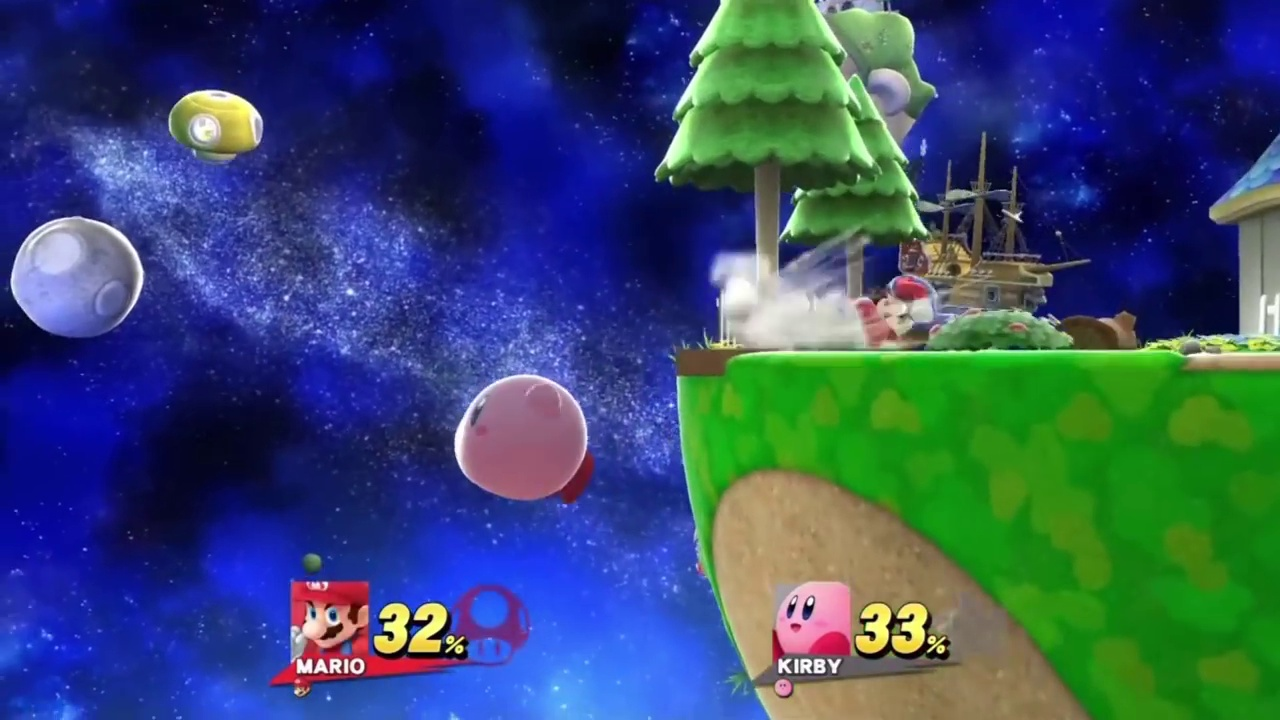Mario: (852, 274, 949, 349)
